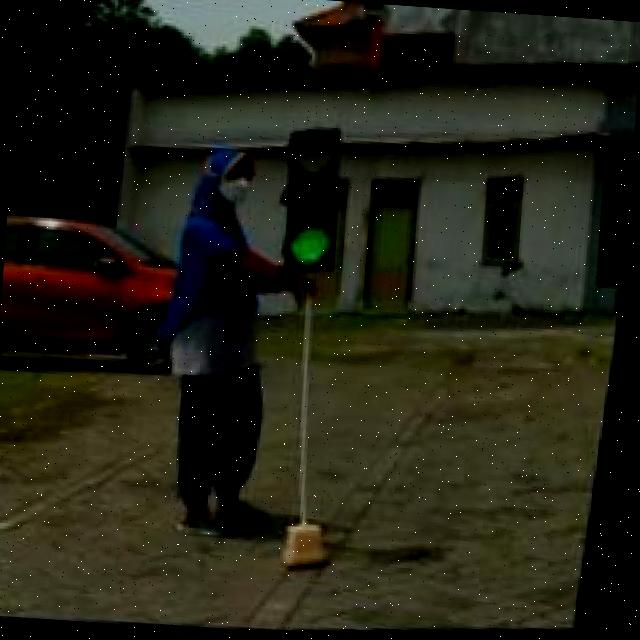green_light: (274, 125, 352, 273)
